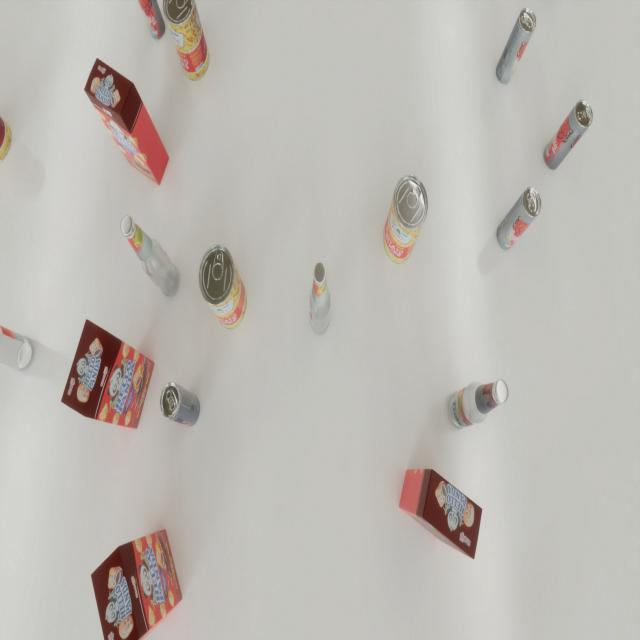Bottle: (120, 215, 180, 298), (448, 379, 508, 430), (308, 262, 332, 336)
HelloPanda: (84, 58, 169, 185), (61, 319, 154, 429), (91, 529, 182, 640), (399, 469, 482, 559)
Potato_sticks: (383, 174, 428, 264), (198, 245, 246, 329), (162, 0, 210, 81)
Rita_zero_sugar: (544, 100, 593, 170), (496, 8, 536, 84), (496, 187, 542, 250), (160, 382, 200, 426)
